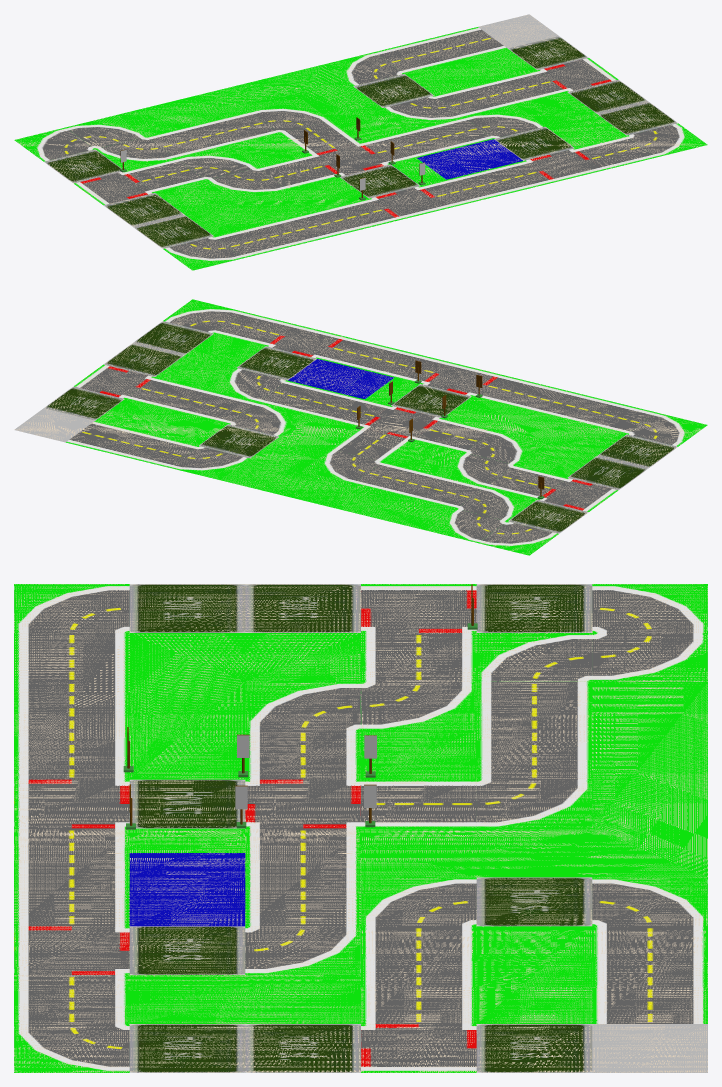
Rendered from open_house_dp6.dae.
The picture shows the model from 3 angles, top to bottom: view 1: azimuth 30°, elevation 25°; view 2: azimuth 150°, elevation 25°; view 3: azimuth 270°, elevation 25°; orthographic projection. The views are drawn at different scales.
Parts seen in each view (by area): view 1: skp768C (×41); view 2: skp768C (×41); view 3: skp768C (×41).
Part boxes in pixels (x1=…): skp768C (×41): x1=14, y1=14, x2=707, y2=270; skp768C (×41): x1=14, y1=299, x2=707, y2=555; skp768C (×41): x1=14, y1=584, x2=707, y2=1072.
Size of the model in its own units: 469 by 281 by 19.38.
